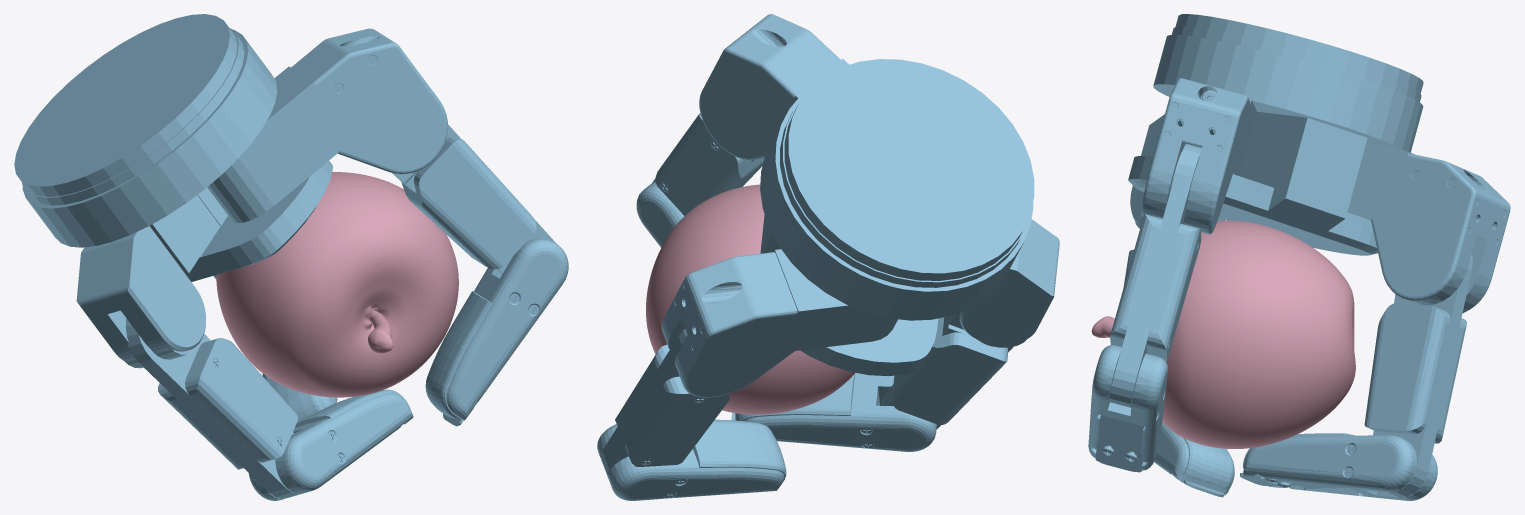
3 renders of one model, left to right at view 1: azimuth 30°, elevation 25°; view 2: azimuth 150°, elevation 25°; view 3: azimuth 270°, elevation 25°, orthographic. The views are drawn at different scales.
Parts seen in each view (by area): view 1: world; view 2: world; view 3: world.
Boxes of the visible parts, x1,y1,x2,y2 form: world: [14, 14, 568, 500]; world: [597, 14, 1059, 500]; world: [1088, 14, 1510, 500].
Bounding box in the file's own units: 0.1702 × 0.1583 × 0.1412.
